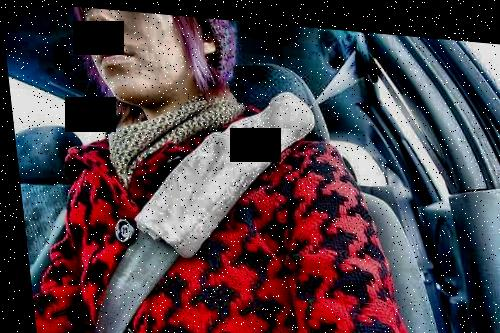seatbelt: (84, 39, 373, 326)
